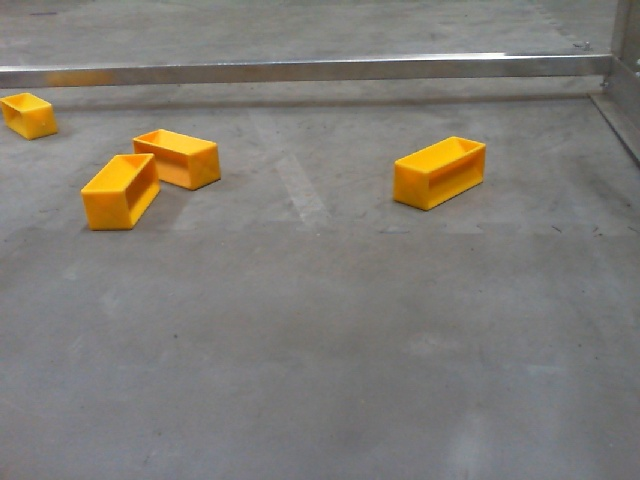YellowSample: (390, 134, 488, 213), (80, 149, 161, 233), (132, 129, 224, 190), (1, 92, 58, 141)
